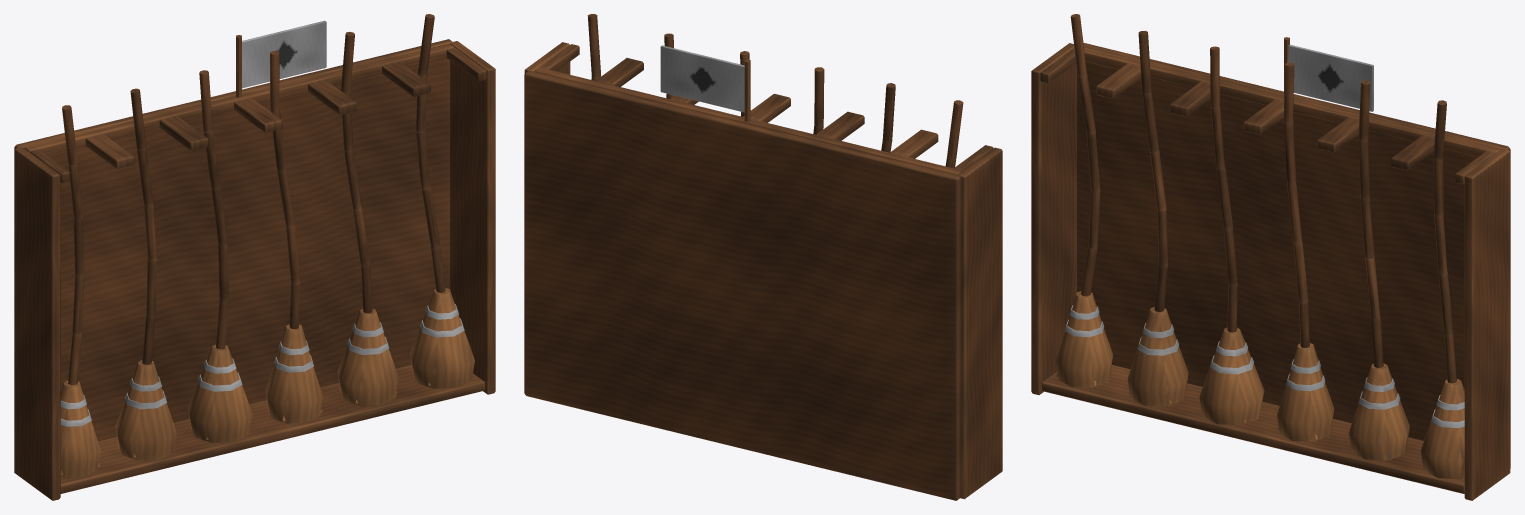
The model's file is Furn_Broom_Rack.fbx.
The picture shows the model from 3 angles, left to right: view 1: azimuth 30°, elevation 25°; view 2: azimuth 150°, elevation 25°; view 3: azimuth 330°, elevation 25°; orthographic projection.
Parts seen in each view (by area): view 1: Furn_Broom_Rack; view 2: Furn_Broom_Rack; view 3: Furn_Broom_Rack.
Boxes of the visible parts, x1=… form: Furn_Broom_Rack: x1=14, y1=14, x2=495, y2=500; Furn_Broom_Rack: x1=524, y1=14, x2=1002, y2=500; Furn_Broom_Rack: x1=1031, y1=14, x2=1510, y2=500.
Size of the model in its own units: 2.4 by 1.99 by 0.4.
3 materials, 3 textured.
